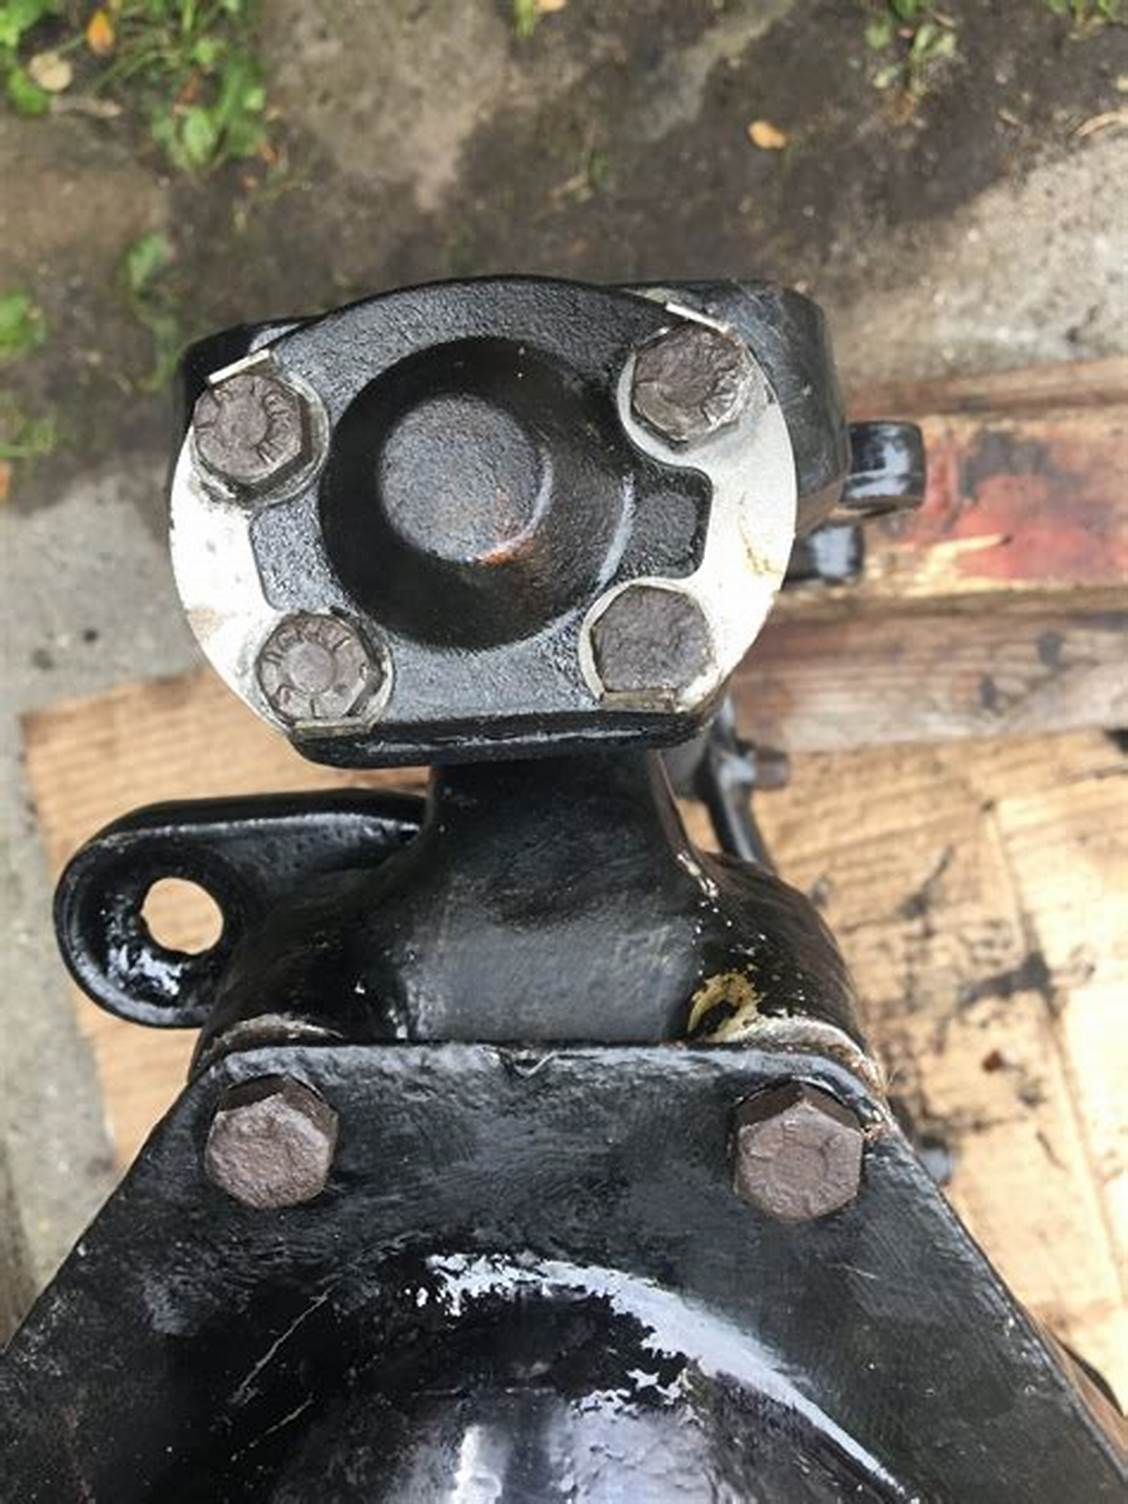bolt_a: (722, 1076, 866, 1230), (199, 1071, 342, 1217), (585, 580, 718, 713), (184, 366, 312, 496), (632, 321, 752, 452), (252, 610, 382, 729)
